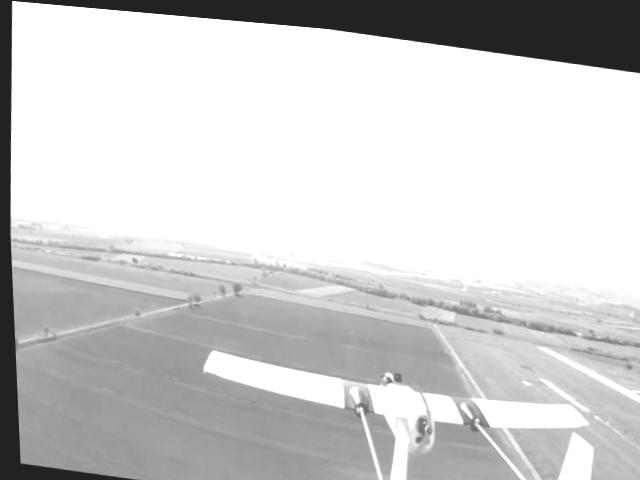hedef: (183, 317, 618, 480)
